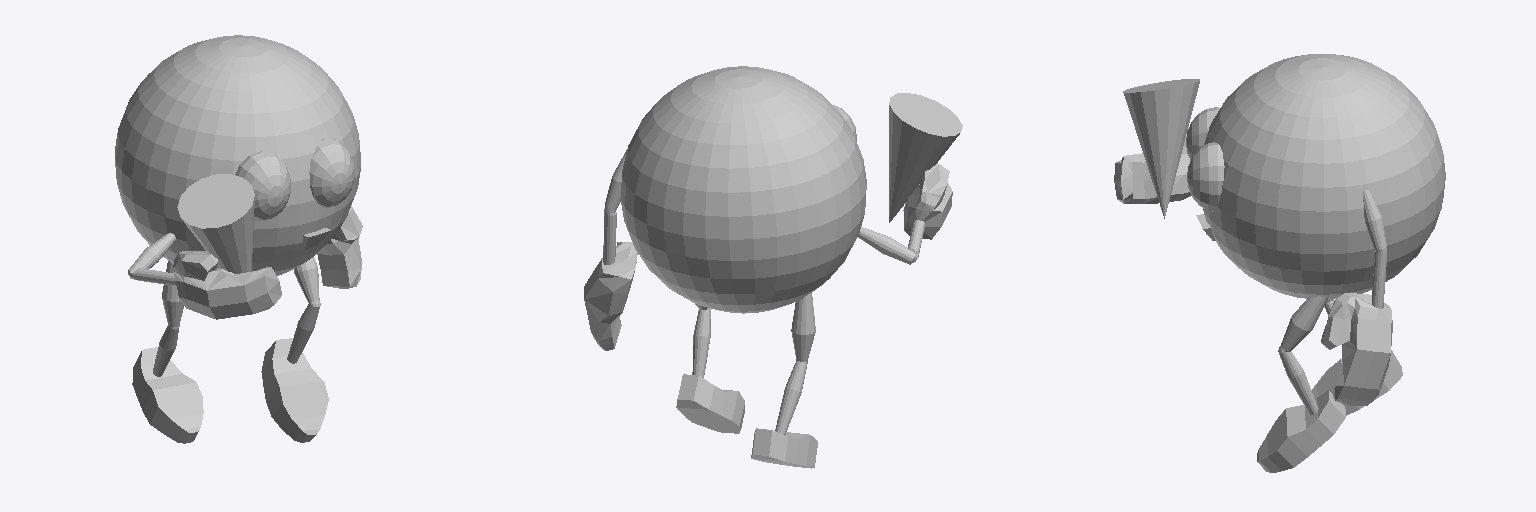
The model's file is walk2run_000016.obj.
The picture shows the model from 3 angles: view 1: azimuth 30°, elevation 25°; view 2: azimuth 150°, elevation 25°; view 3: azimuth 270°, elevation 25°; orthographic projection.
Visible parts, largest first — view 1: Rusko_Sphere; view 2: Rusko_Sphere; view 3: Rusko_Sphere.
Part boxes in pixels (x1,y1,x2,y2): Rusko_Sphere: (115, 35, 362, 443); Rusko_Sphere: (584, 66, 962, 468); Rusko_Sphere: (1114, 54, 1445, 472).
Size of the model in its own units: 5.17 by 6.88 by 5.37.